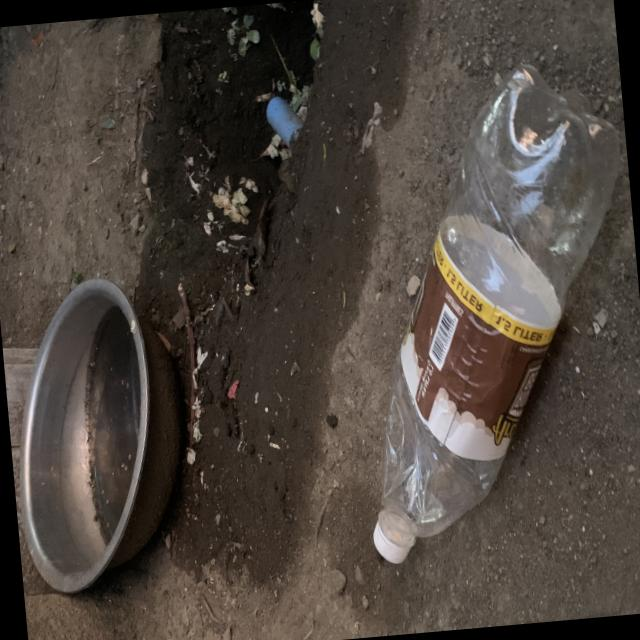Bottle: (372, 65, 618, 563)
